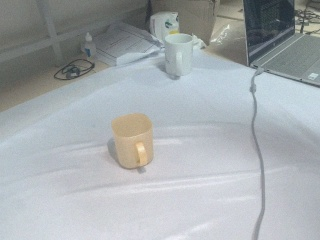bottle: (163, 32, 193, 77)
cup: (111, 112, 155, 170)
